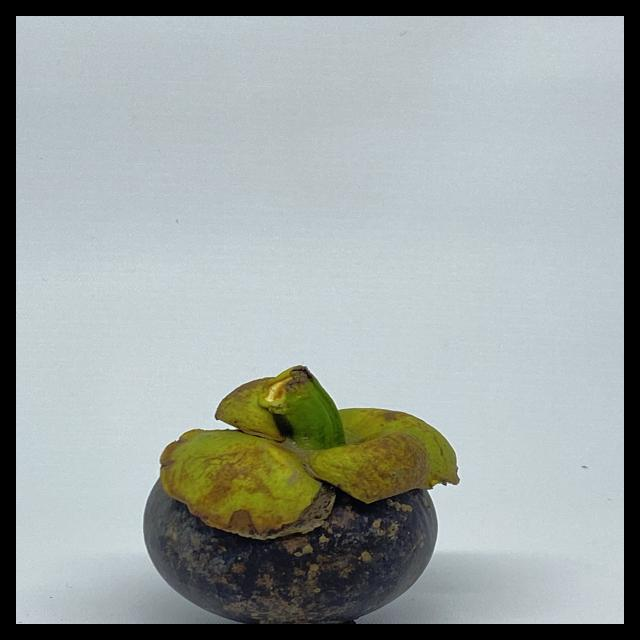mangosteen: (117, 351, 469, 624)
